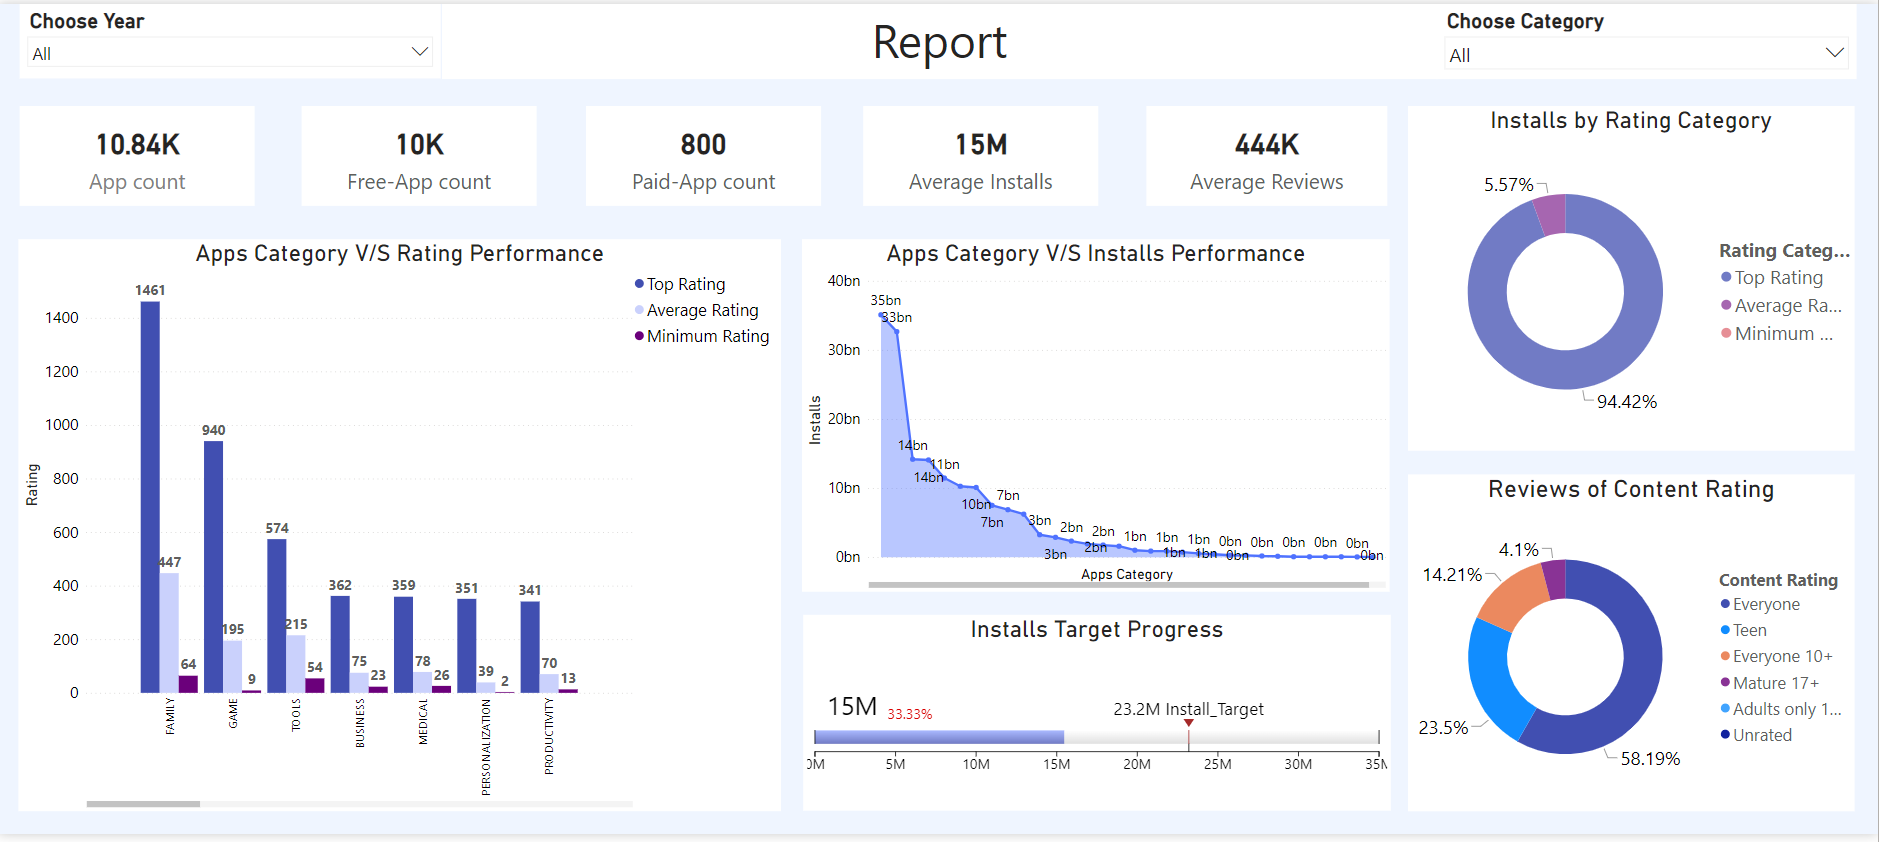

Layout of this report page (visuals, bound fields, positions):
{"tool":"powerbi","page":{"name":"Main","canvas":[2400,1060],"ordinal":0},"visuals":[{"type":"textbox","box":[566,0,1270,96],"z":0},{"type":"slicer","fields":{"Values":["Table1.last_update"]},"box":[27.5,0,537.5,95],"z":1000},{"type":"slicer","fields":{"Values":["Table1.category"]},"box":[1836,0,536,96],"z":2000},{"type":"card","fields":{"Values":["Table1.Free App count"]},"box":[387.5,130,300,127.5],"z":3000},{"type":"card","fields":{"Values":["Table1.Paid App count"]},"box":[750,130,300,127.5],"z":4000},{"type":"card","fields":{"Values":["CountNonNull(Table1.app)"]},"box":[27.5,130,300,127.5],"z":5000},{"type":"card","fields":{"Values":["Avg(Table1.installs)"]},"box":[1105,130,300,127.5],"z":6000},{"type":"card","fields":{"Values":["Avg(Table1.reviews)"]},"box":[1465,130,307.5,127.5],"z":7000},{"type":"clusteredColumnChart","title":"Apps Category V/S Rating Performance","fields":{"Category":["Table1.category"],"Y":["Table1.top_rating","Table1.median_rating","Table1.min_rating"]},"box":[26.7,300,973.3,730],"z":8000},{"type":"areaChart","title":"Apps Category V/S Installs Performance","fields":{"Y":["Sum(Table1.installs)"],"Category":["Table1.category"]},"box":[1026.7,300,750,450],"z":9000},{"type":"actionButton","box":[27.5,130,300,127.5],"z":10000},{"type":"donutChart","title":"Reviews of Content Rating","fields":{"Category":["Table1.content_rating"],"Y":["Sum(Table1.reviews)"]},"box":[1800,600,570,430],"z":11000},{"type":"donutChart","title":"Installs by Rating Category","fields":{"Category":["Table1.rating_category"],"Y":["Sum(Table1.installs)"]},"box":[1800,130,570,440],"z":12000},{"type":"LinearGauge1450736844786","title":"Installs Target Progress","fields":{"Y":["Avg(Table1.installs)"],"TargetValue":["Table1.Install_Target"]},"box":[1027.5,780,750,250],"z":13000}]}

Visuals, with their boxes in screenshot pixels (x1, y1, x2, y2), scaled from the page's 2400x1060 canvas onto the 1882x842 screenshot:
textbox: {"x1": 444, "y1": 0, "x2": 1440, "y2": 76}
slicer - Table1.last_update: {"x1": 22, "y1": 0, "x2": 443, "y2": 75}
slicer - Table1.category: {"x1": 1440, "y1": 0, "x2": 1860, "y2": 76}
card - Table1.Free App count: {"x1": 304, "y1": 103, "x2": 539, "y2": 205}
card - Table1.Paid App count: {"x1": 588, "y1": 103, "x2": 823, "y2": 205}
card - CountNonNull(Table1.app): {"x1": 22, "y1": 103, "x2": 257, "y2": 205}
card - Avg(Table1.installs): {"x1": 867, "y1": 103, "x2": 1102, "y2": 205}
card - Avg(Table1.reviews): {"x1": 1149, "y1": 103, "x2": 1390, "y2": 205}
"Apps Category V/S Rating Performance" clusteredColumnChart: {"x1": 21, "y1": 238, "x2": 784, "y2": 818}
"Apps Category V/S Installs Performance" areaChart: {"x1": 805, "y1": 238, "x2": 1393, "y2": 596}
actionButton: {"x1": 22, "y1": 103, "x2": 257, "y2": 205}
"Reviews of Content Rating" donutChart: {"x1": 1412, "y1": 477, "x2": 1858, "y2": 818}
"Installs by Rating Category" donutChart: {"x1": 1412, "y1": 103, "x2": 1858, "y2": 453}
"Installs Target Progress" LinearGauge1450736844786: {"x1": 806, "y1": 620, "x2": 1394, "y2": 818}
